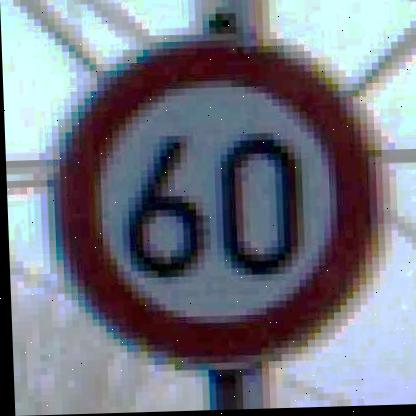Speed Limit -60-: (36, 28, 393, 377)
